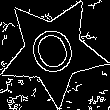O_SE: (24, 19, 82, 83)
